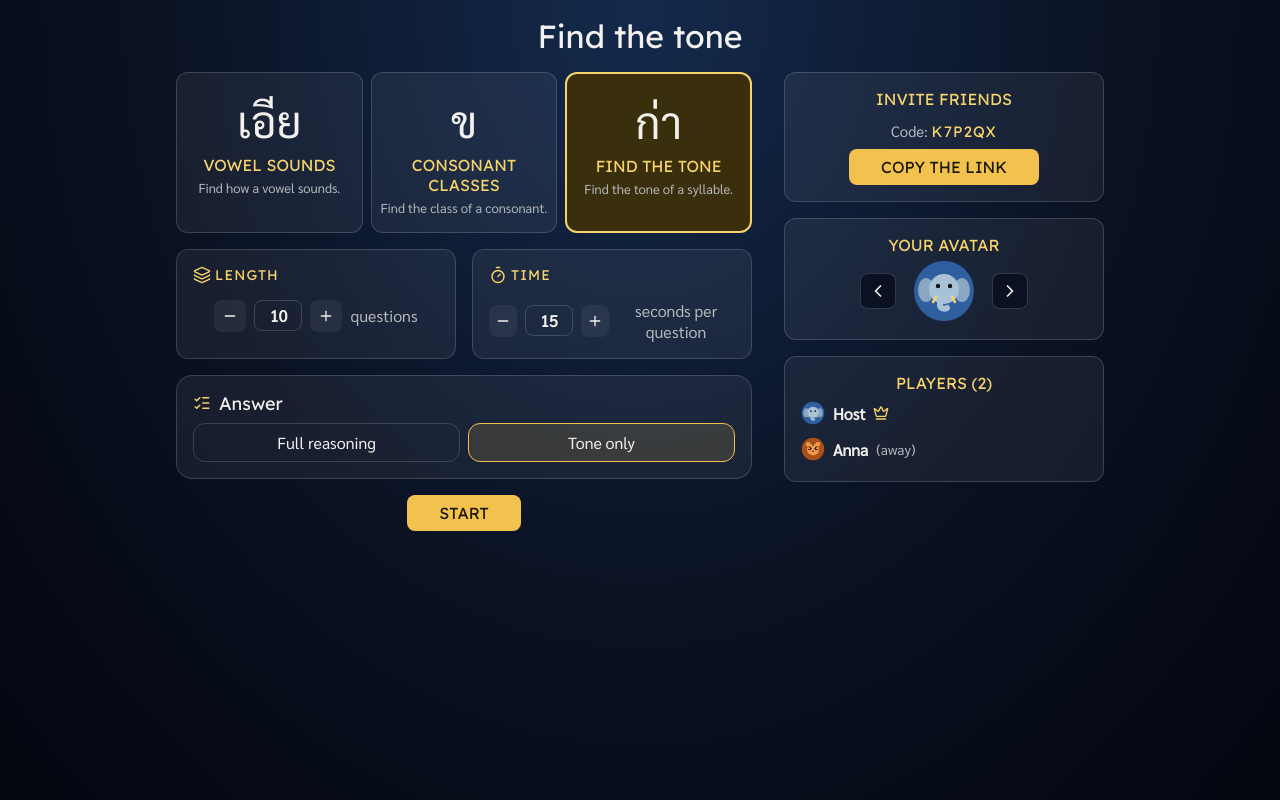
Lobby › shows Invite friends with the lobby code and confirms when the link is copied
The image size is (1280, 800).
Check: the text "K7P2QX" is shown, box [932, 122, 997, 141]
Click the button "Copy the link" at (944, 167), box [849, 149, 1039, 185]
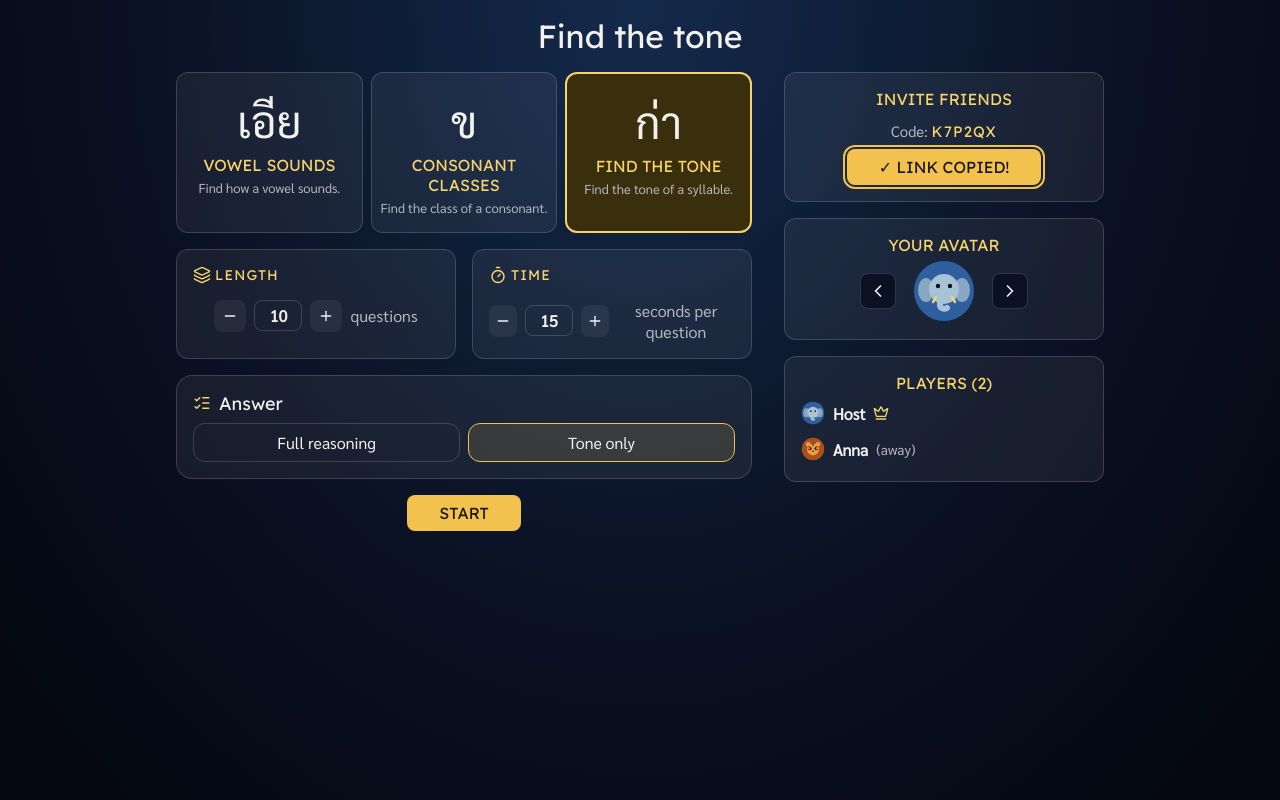
Check: the button "✓ Link copied!" is shown, box [847, 149, 1041, 185]
